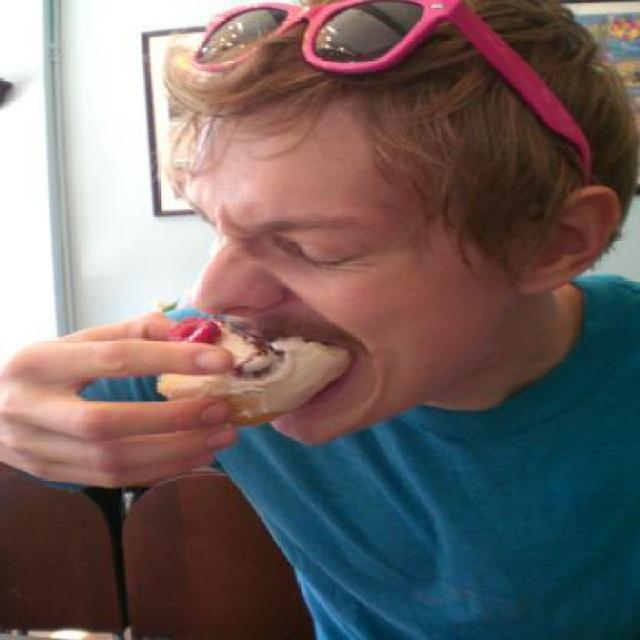face_nomask: (188, 178, 374, 440)
glasses: (187, 1, 593, 184)
hand_noglove: (5, 320, 238, 486)
